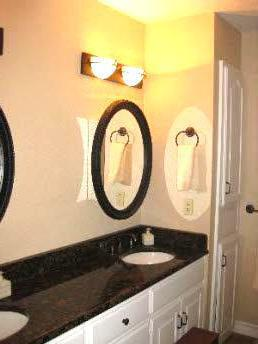Lavamanos: (107, 231, 176, 266), (0, 302, 31, 343)
